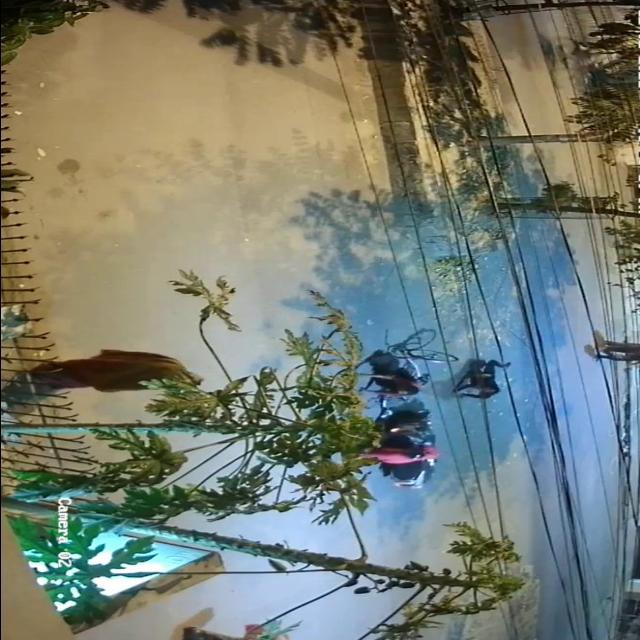accident: (347, 325, 527, 491)
